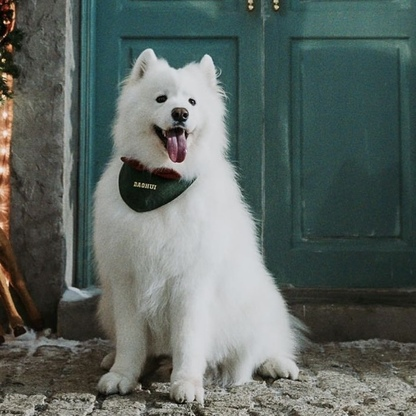samoyed: (84, 40, 316, 409)
